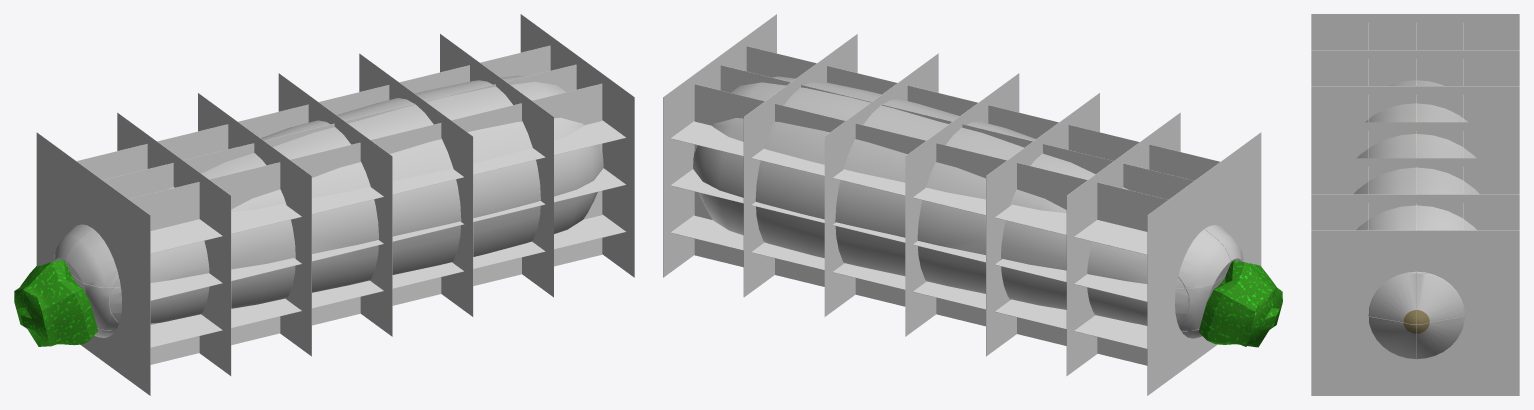
File: ZuchiniFertig 1.fbx
The picture shows the model from 3 angles, left to right: view 1: azimuth 30°, elevation 25°; view 2: azimuth 150°, elevation 25°; view 3: azimuth 270°, elevation 25°; orthographic projection. The views are drawn at different scales.
Parts seen in each view (by area): view 1: R_Schnitt1, Stumpf, R_Schnitt7, R_Schnitt2, R_Schnitt3, R_Schnitt4, R_Schnitt6, R_Schnitt5, SchnittR6L3, SchnittR1L3, R4L4H2, R5L4H2 (+49 smaller); view 2: R_Schnitt1, Stumpf, R_Schnitt7, R_Schnitt2, R_Schnitt3, R_Schnitt4, R_Schnitt6, R_Schnitt5, SchnittR1L1, SchnittR6L1, R4L1H2, R5L1H2 (+49 smaller); view 3: R_Schnitt7, R_Schnitt1, R_Schnitt2, StumpHinten, R_Schnitt3, R_Schnitt4, R_Schnitt6, R_Schnitt5, R5L2H1, R5L3H1, R6L2H1, R4L2H1 (+4 smaller).
Boxes of the visible parts, x1=… form: R_Schnitt1: x1=36, y1=132, x2=150, y2=395; Stumpf: x1=14, y1=224, x2=121, y2=346; R_Schnitt7: x1=520, y1=14, x2=634, y2=277; R_Schnitt2: x1=117, y1=112, x2=231, y2=375; R_Schnitt3: x1=198, y1=93, x2=311, y2=356; R_Schnitt4: x1=278, y1=73, x2=392, y2=336; R_Schnitt6: x1=440, y1=33, x2=553, y2=297; R_Schnitt5: x1=359, y1=53, x2=473, y2=316; SchnittR6L3: x1=532, y1=83, x2=602, y2=266; SchnittR1L3: x1=128, y1=182, x2=199, y2=364; R4L4H2: x1=392, y1=168, x2=461, y2=236; R5L4H2: x1=473, y1=160, x2=540, y2=217; R_Schnitt1: x1=1147, y1=132, x2=1261, y2=395; Stumpf: x1=1175, y1=225, x2=1282, y2=347; R_Schnitt7: x1=663, y1=14, x2=776, y2=277; R_Schnitt2: x1=1066, y1=112, x2=1180, y2=375; R_Schnitt3: x1=986, y1=93, x2=1099, y2=356; R_Schnitt4: x1=905, y1=73, x2=1019, y2=336; R_Schnitt6: x1=743, y1=34, x2=857, y2=297; R_Schnitt5: x1=824, y1=53, x2=938, y2=316; SchnittR1L1: x1=1097, y1=182, x2=1168, y2=365; SchnittR6L1: x1=694, y1=84, x2=764, y2=267; R4L1H2: x1=835, y1=169, x2=905, y2=237; R5L1H2: x1=755, y1=161, x2=824, y2=219; R_Schnitt7: x1=1311, y1=230, x2=1519, y2=395; R_Schnitt1: x1=1311, y1=14, x2=1519, y2=49; R_Schnitt2: x1=1311, y1=50, x2=1519, y2=85; StumpHinten: x1=1368, y1=271, x2=1464, y2=359; R_Schnitt3: x1=1311, y1=86, x2=1519, y2=122; R_Schnitt4: x1=1311, y1=122, x2=1519, y2=158; R_Schnitt6: x1=1311, y1=194, x2=1519, y2=230; R_Schnitt5: x1=1311, y1=158, x2=1519, y2=194; R5L2H1: x1=1416, y1=167, x2=1463, y2=194; R5L3H1: x1=1369, y1=167, x2=1415, y2=194; R6L2H1: x1=1416, y1=205, x2=1463, y2=230; R4L2H1: x1=1416, y1=134, x2=1463, y2=158.
Bounding box in the file's own units: 435 × 130 × 149.
